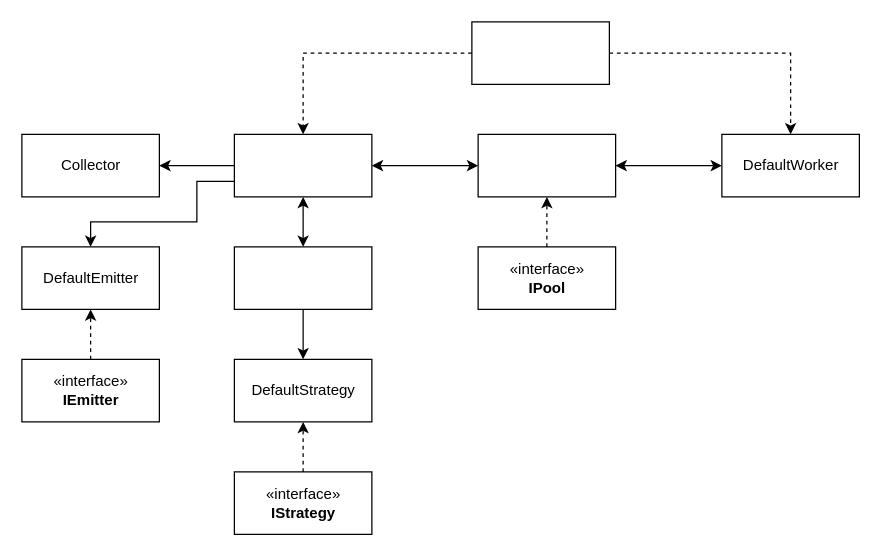
Image size: 881x556. Some labels were removed from this diagram. Each missing label, with the box of its shape:
MasterWorker: (233, 133, 372, 197)
Monitor: (233, 246, 372, 309)
WorkerPool: (477, 133, 616, 197)
«interface» IWorker: (471, 21, 609, 84)
